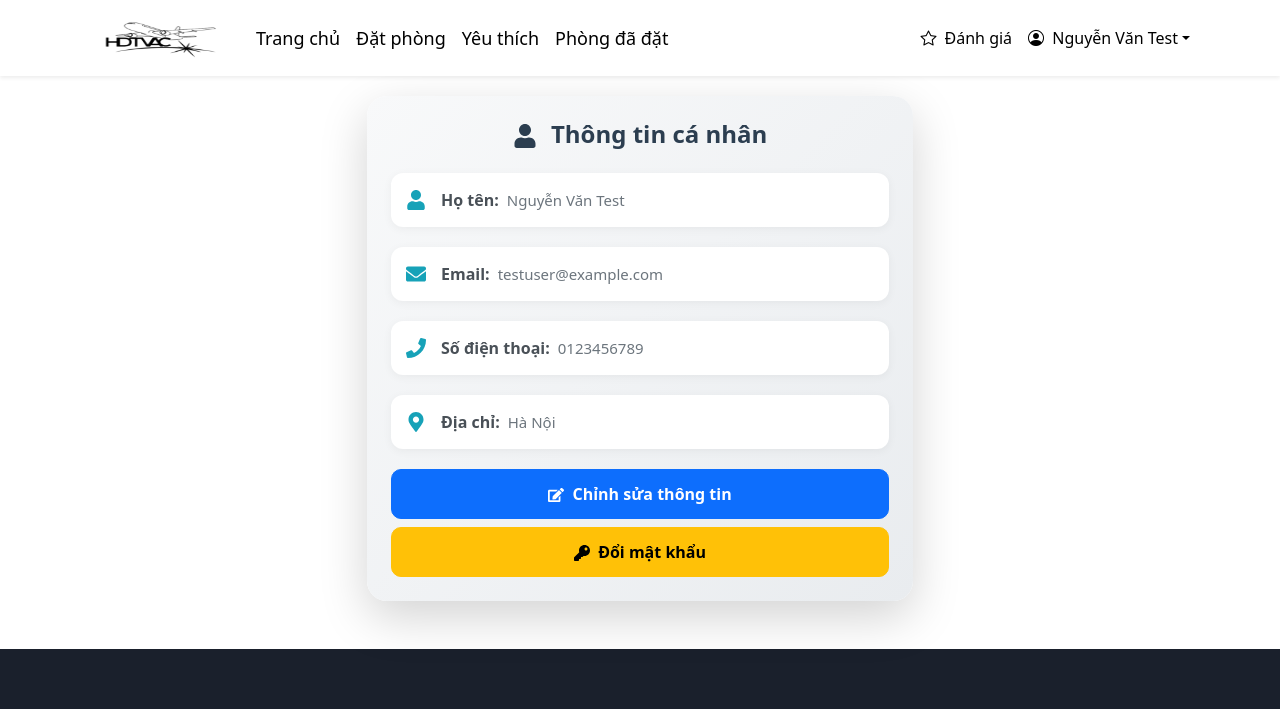
Tính năng Người dùng - E2E Test › Quản lý hồ sơ cá nhân › Chuyển sang chế độ chỉnh sửa thông tin
The image size is (1280, 709).
Click the button "Chỉnh sửa thông tin". click: (640, 494)
box: [391, 469, 889, 519]
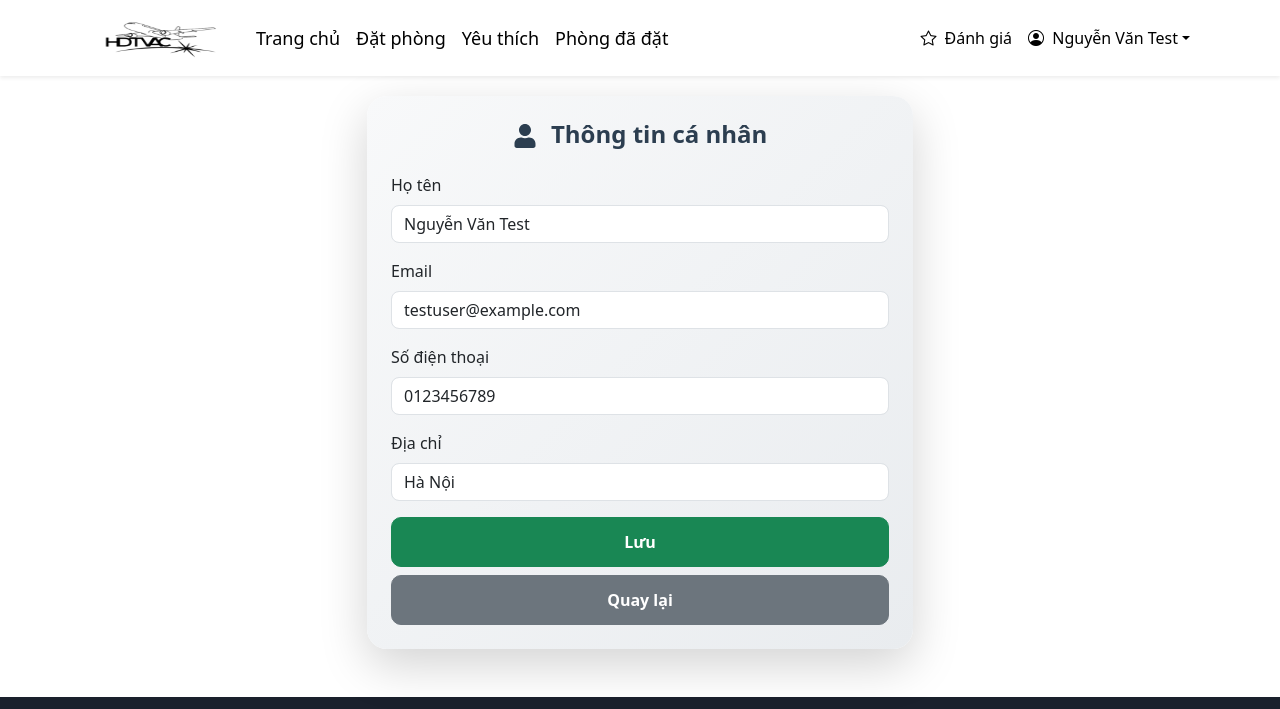
Expected: the field named "fullname" below "Họ tên" is shown, [391, 205, 889, 243]
Expected: the field named "email" below "Email" is shown, [391, 291, 889, 329]
Expected: the field named "phone" below "Số điện thoại" is shown, [391, 377, 889, 415]
